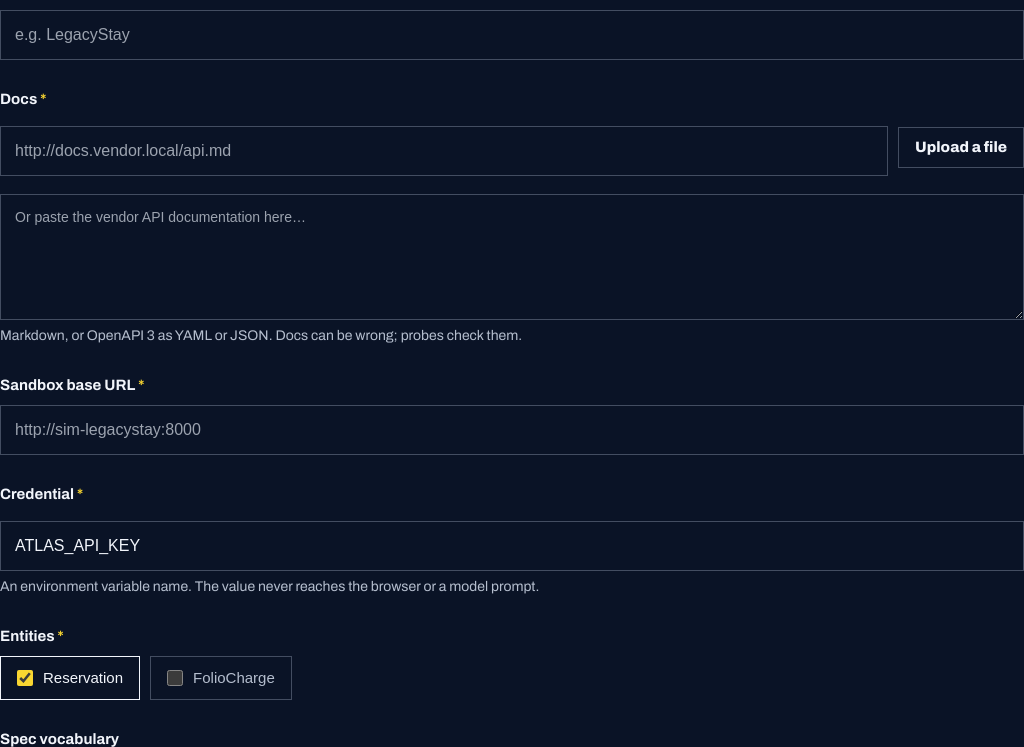
NewConnectorForm › creates connector then starts build on submit
Step 1. Type "Atlas Staging" into the field with test id "input-name" → (512, 34), box [0,10,1023,60]
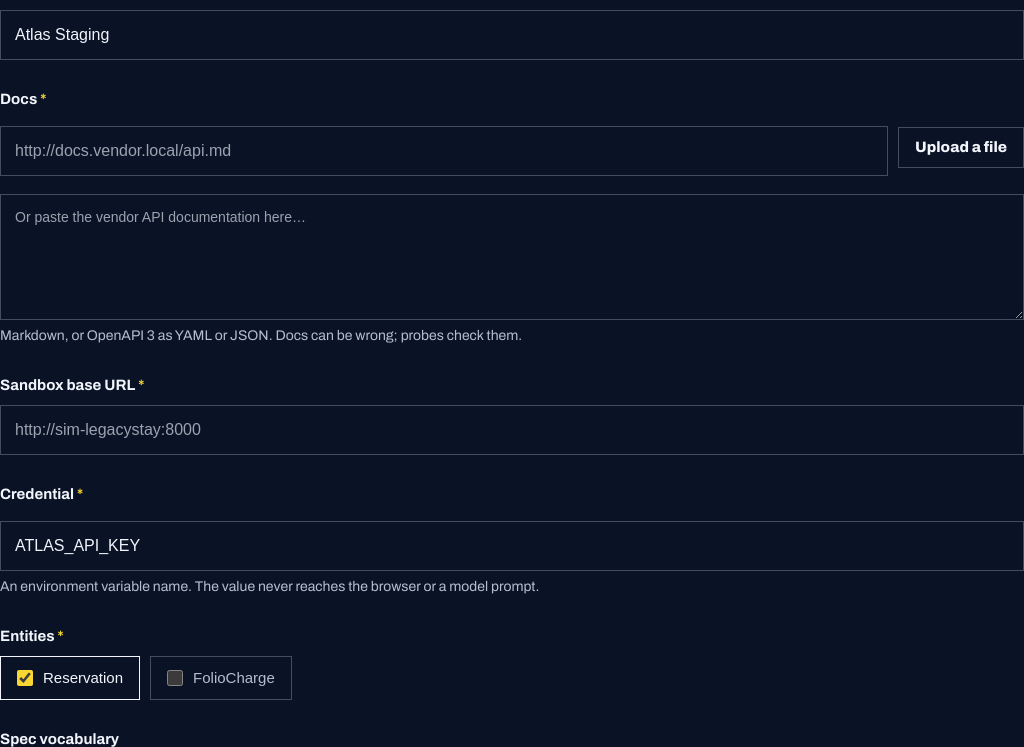
Step 2. Type "http://sim-atlas:8000" into the field with test id "input-base-url" → (512, 430), box [0,404,1023,454]
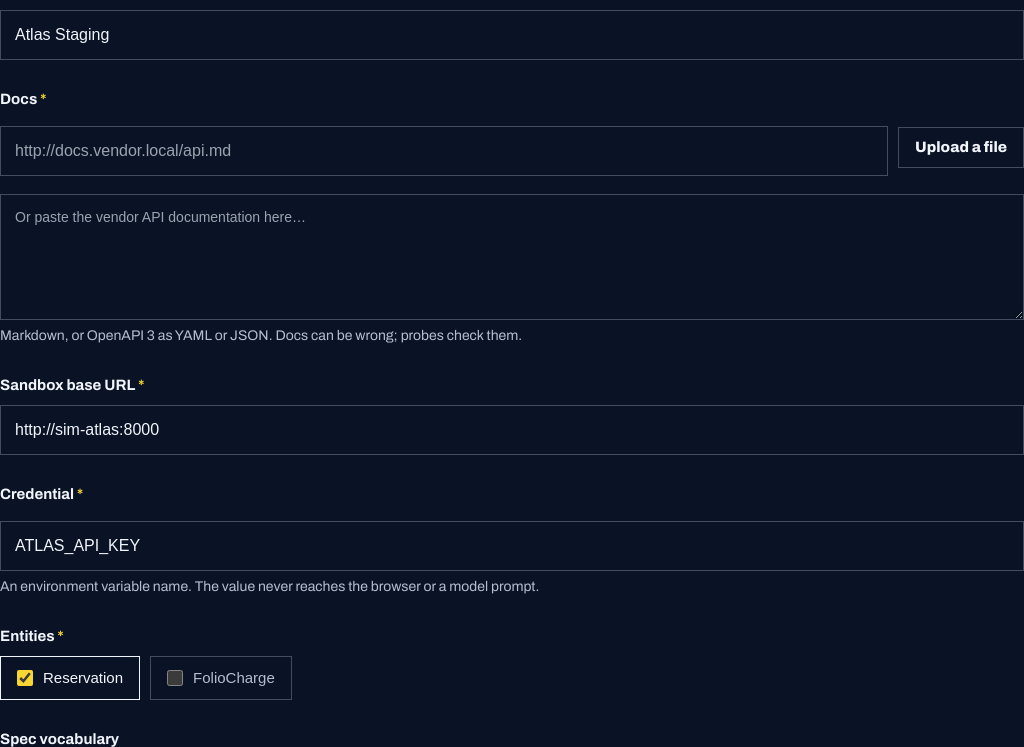
Step 3. Type "Vendor docs content here" into the text box with test id "input-docs-text" → (512, 257), box [0,194,1023,320]
(page scrolled)
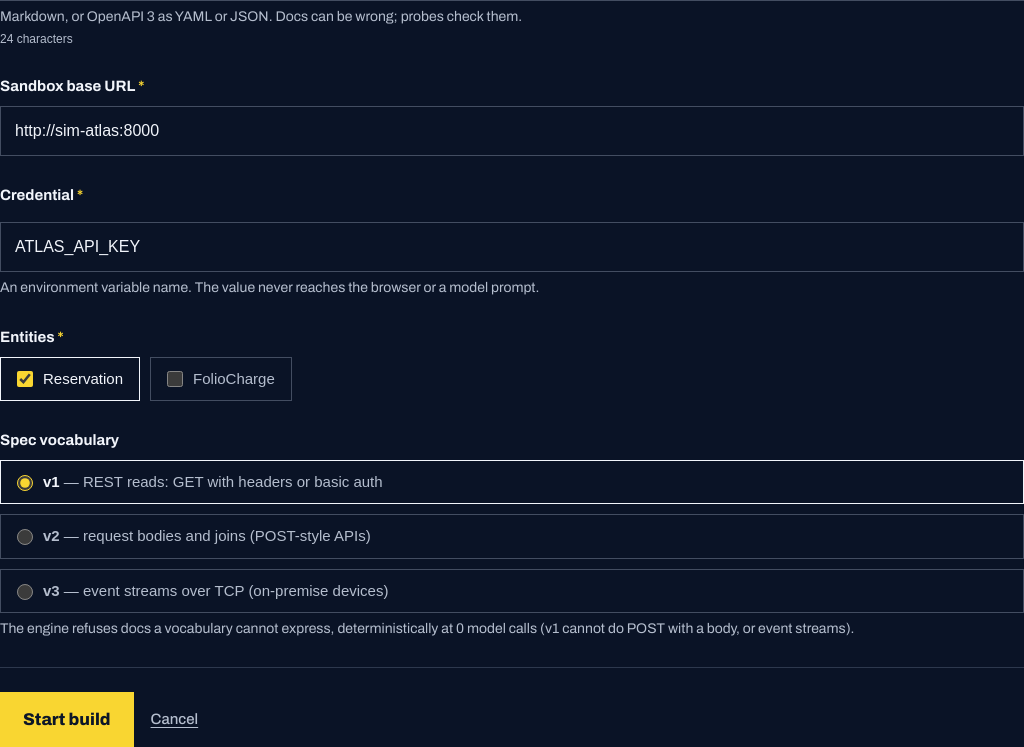
Step 4. Click the button with test id "submit-build" → (67, 720), box [0,692,134,746]
(page scrolled)
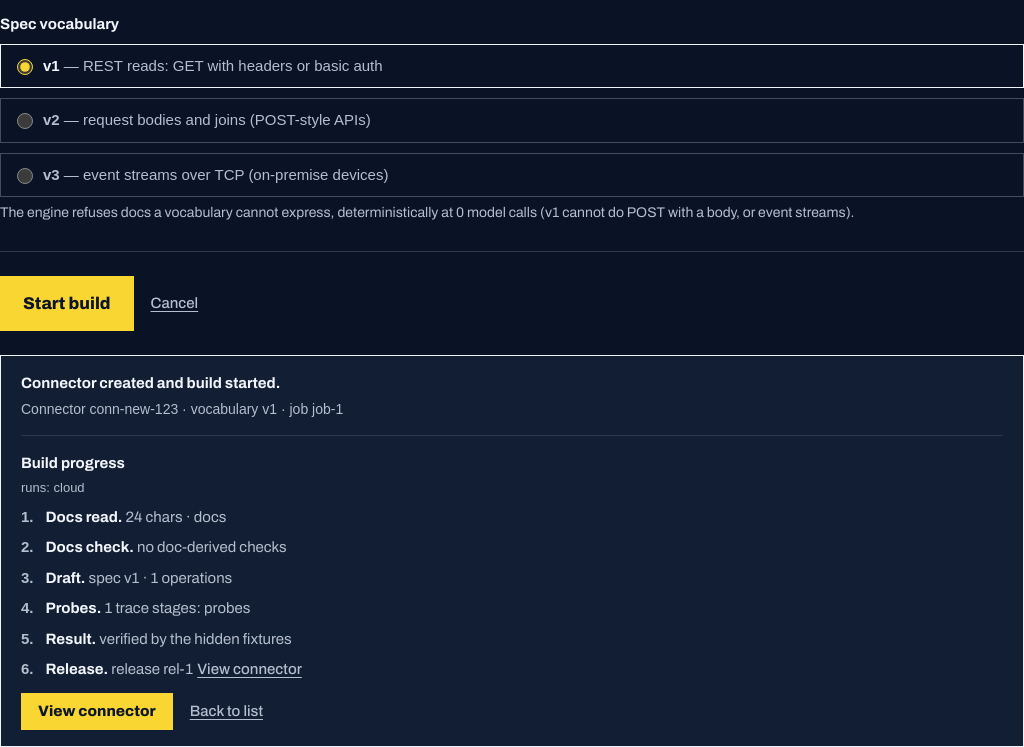
Result: the element with test id "submit-success" is shown at [0,355,1023,746]
